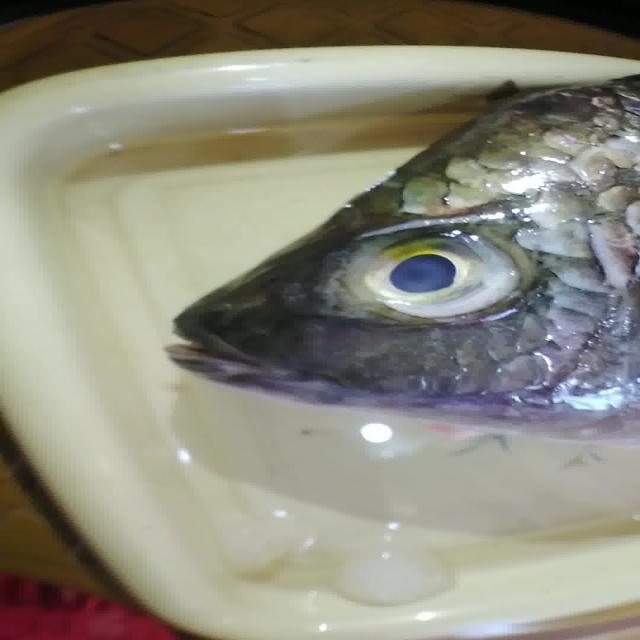Fresh: (342, 219, 556, 330)
